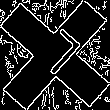L_SW: (27, 26, 83, 84)
